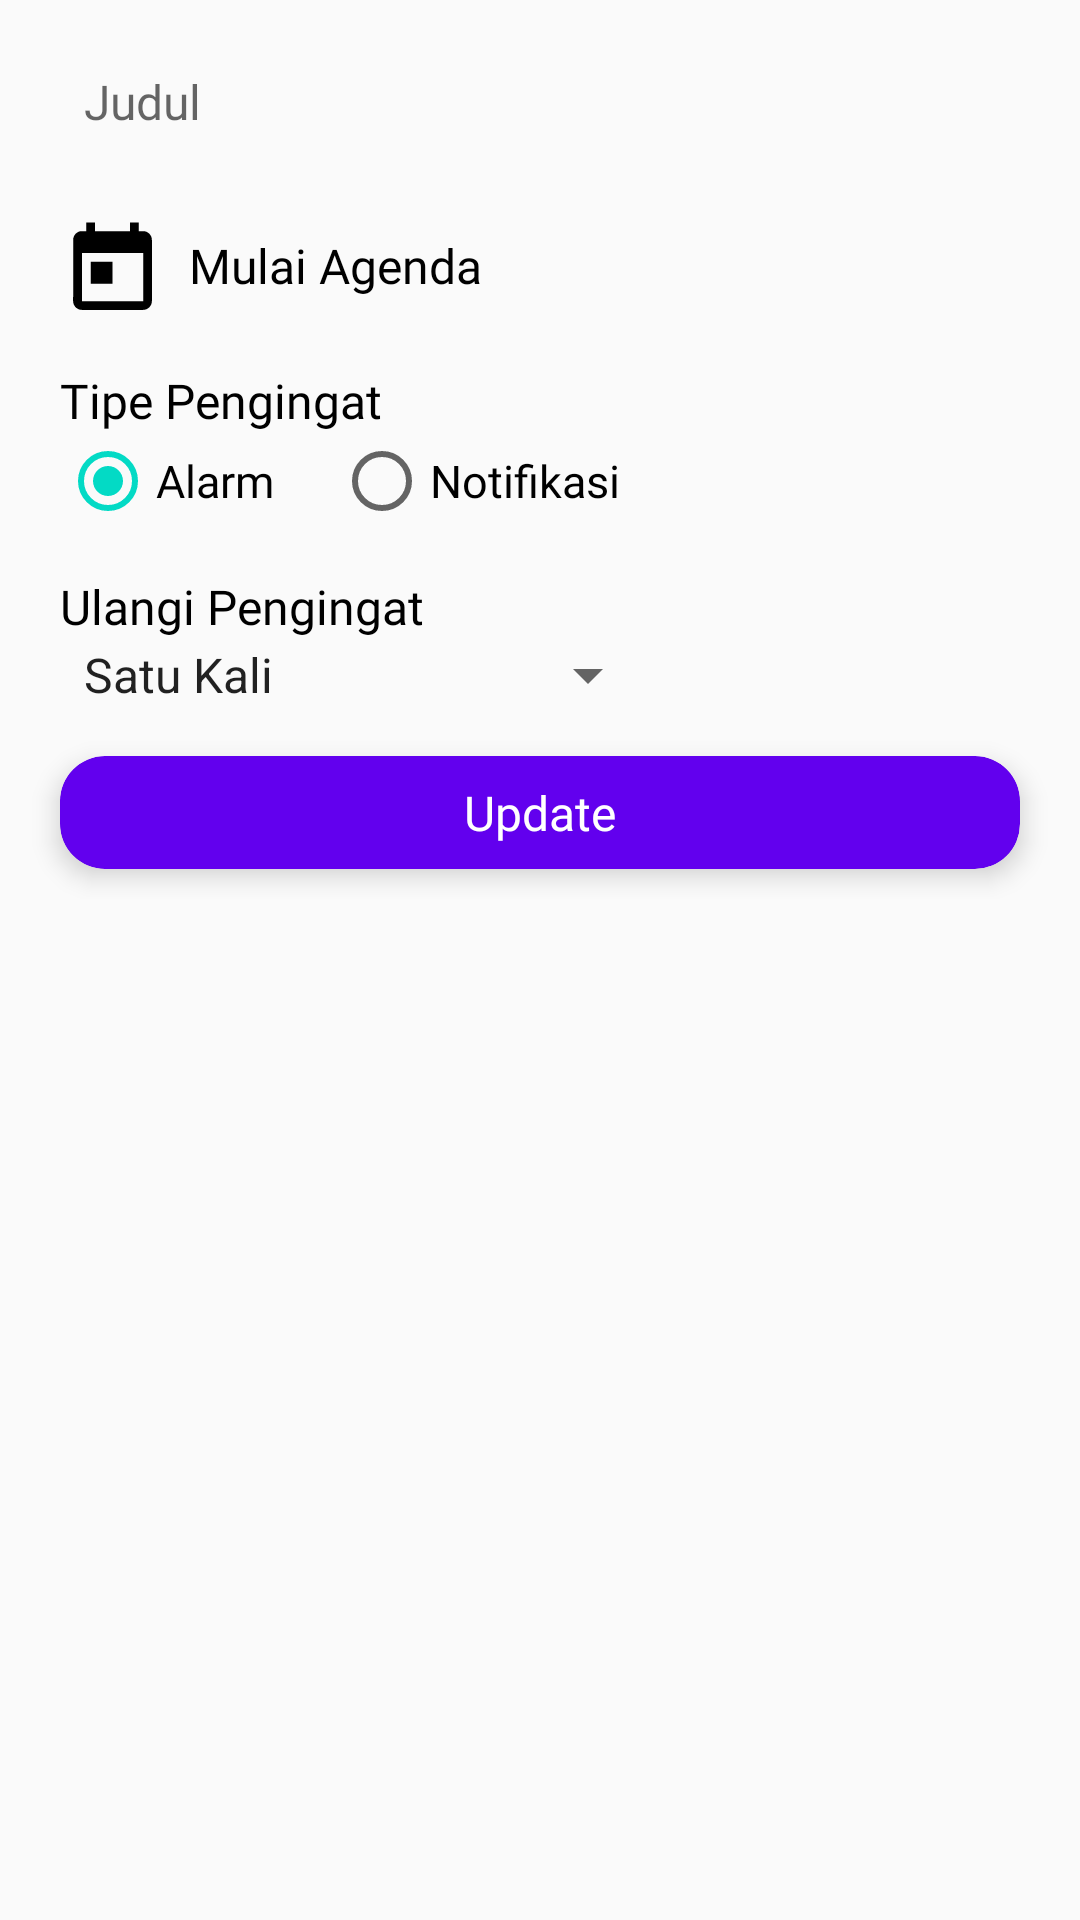

Screen size 1080w x 1920h. Icon name, then its center in pixels as (x,y):
today: (112,266)
